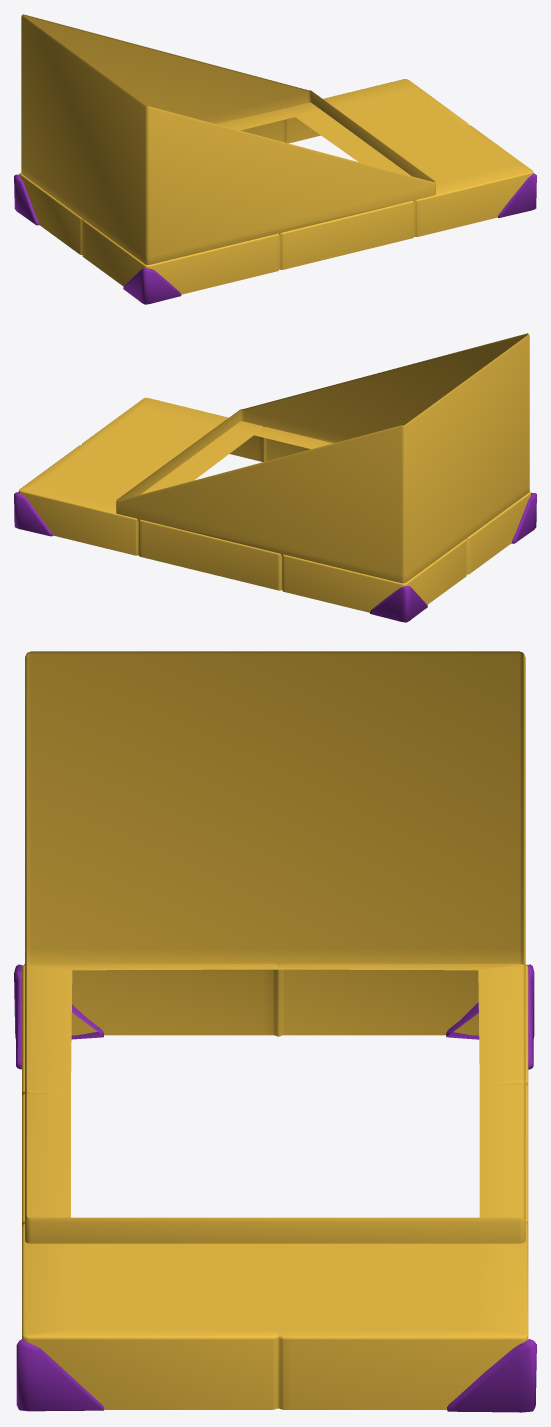
Rendered from HoopsRampWall.fbx.
3 renders of one model, top to bottom at view 1: azimuth 30°, elevation 25°; view 2: azimuth 150°, elevation 25°; view 3: azimuth 270°, elevation 25°, orthographic. The views are drawn at different scales.
Parts seen in each view (by area): view 1: ENv_S02_Ramp_MO_1, ENv_S02_Ramp_MO_0; view 2: ENv_S02_Ramp_MO_1, ENv_S02_Ramp_MO_0; view 3: ENv_S02_Ramp_MO_1, ENv_S02_Ramp_MO_0.
Part boxes in pixels (bbox=[...]): ENv_S02_Ramp_MO_1: bbox=[19, 14, 533, 294]; ENv_S02_Ramp_MO_0: bbox=[14, 173, 536, 304]; ENv_S02_Ramp_MO_1: bbox=[18, 333, 531, 612]; ENv_S02_Ramp_MO_0: bbox=[14, 492, 536, 622]; ENv_S02_Ramp_MO_1: bbox=[22, 651, 528, 1409]; ENv_S02_Ramp_MO_0: bbox=[14, 964, 536, 1412].
Size of the model in its own units: 19.92 by 9.44 by 11.55.
